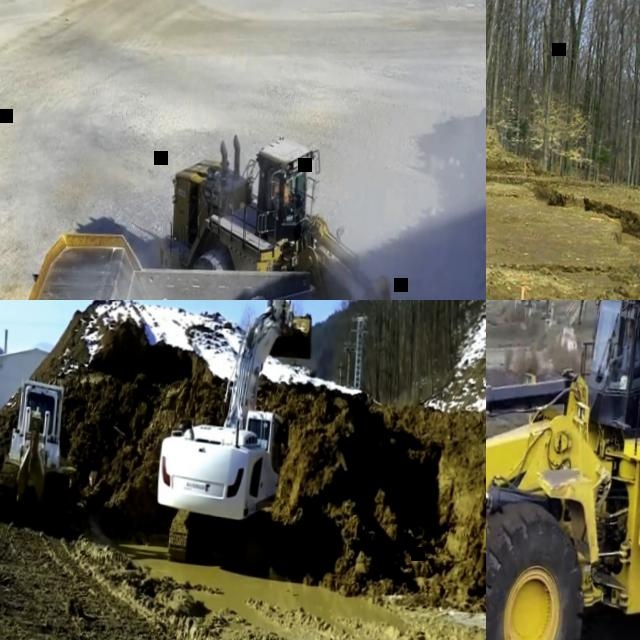NO-Safety Vest: (623, 337, 639, 370)
Person: (610, 324, 640, 371), (274, 176, 294, 206)
Safety Vest: (274, 181, 292, 205)
machinery: (155, 123, 477, 300), (486, 300, 640, 640), (150, 300, 316, 569), (0, 221, 340, 300), (0, 375, 82, 527)
